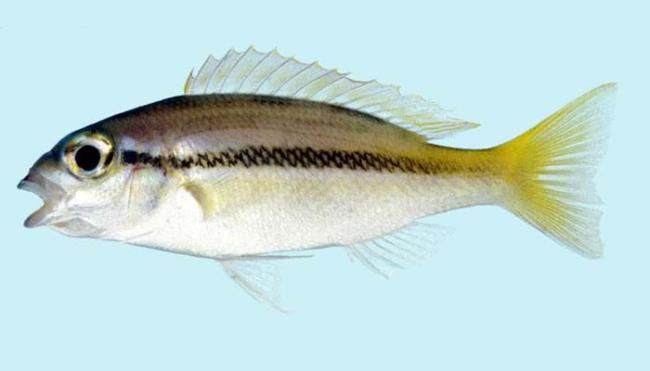fish: (14, 46, 623, 314)
